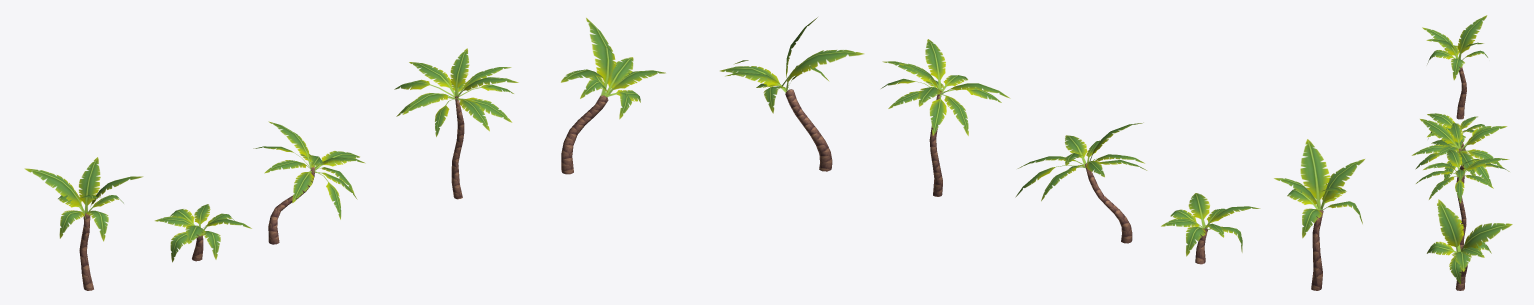
The model's file is palm.glb.
3 views of the same model, side by side, from view 1: azimuth 30°, elevation 25°; view 2: azimuth 150°, elevation 25°; view 3: azimuth 270°, elevation 25° (orthographic). The views are drawn at different scales.
Visible parts, largest first — view 1: PalmTree_3; view 2: PalmTree_3; view 3: PalmTree_3.
Part boxes in pixels (x1,y1,x2,y2): PalmTree_3: (24,18,665,290); PalmTree_3: (720,17,1364,290); PalmTree_3: (1412,15,1512,290).
Bounding box in the file's own units: 25.91 × 5.28 × 5.24.
2 materials, 2 textured.
